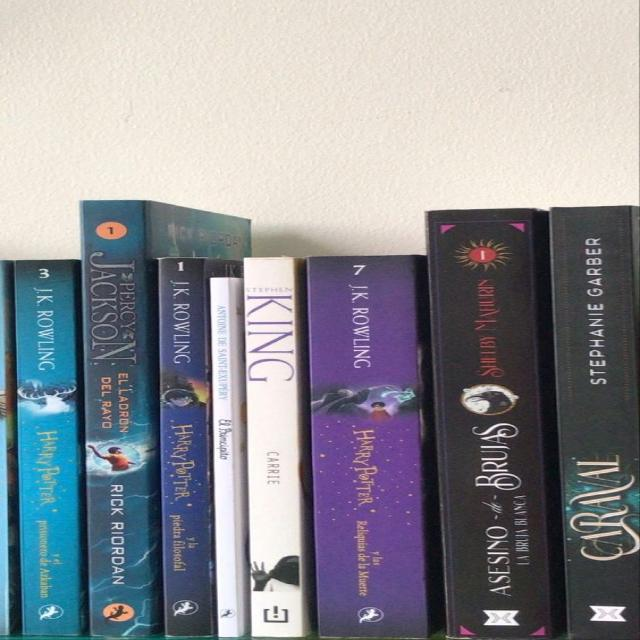book: (427, 209, 562, 639), (306, 255, 437, 637), (550, 206, 639, 639), (82, 201, 160, 636), (15, 261, 84, 636), (245, 258, 311, 637), (158, 259, 216, 636), (211, 277, 249, 637)
